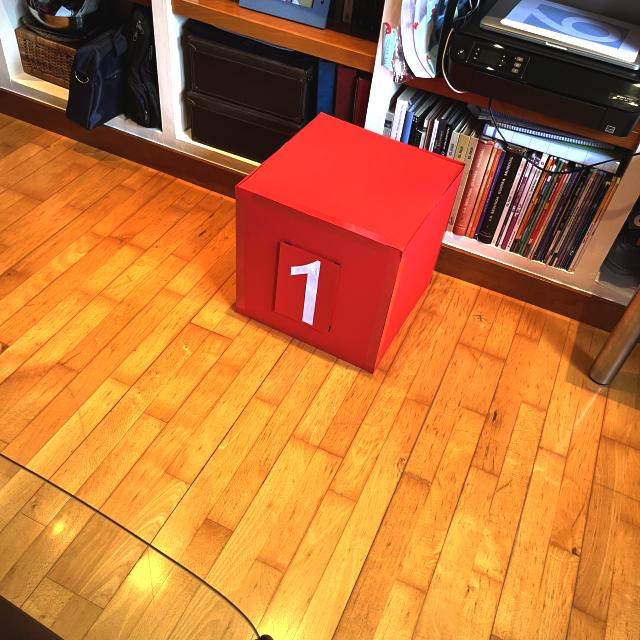box: (229, 109, 467, 375)
